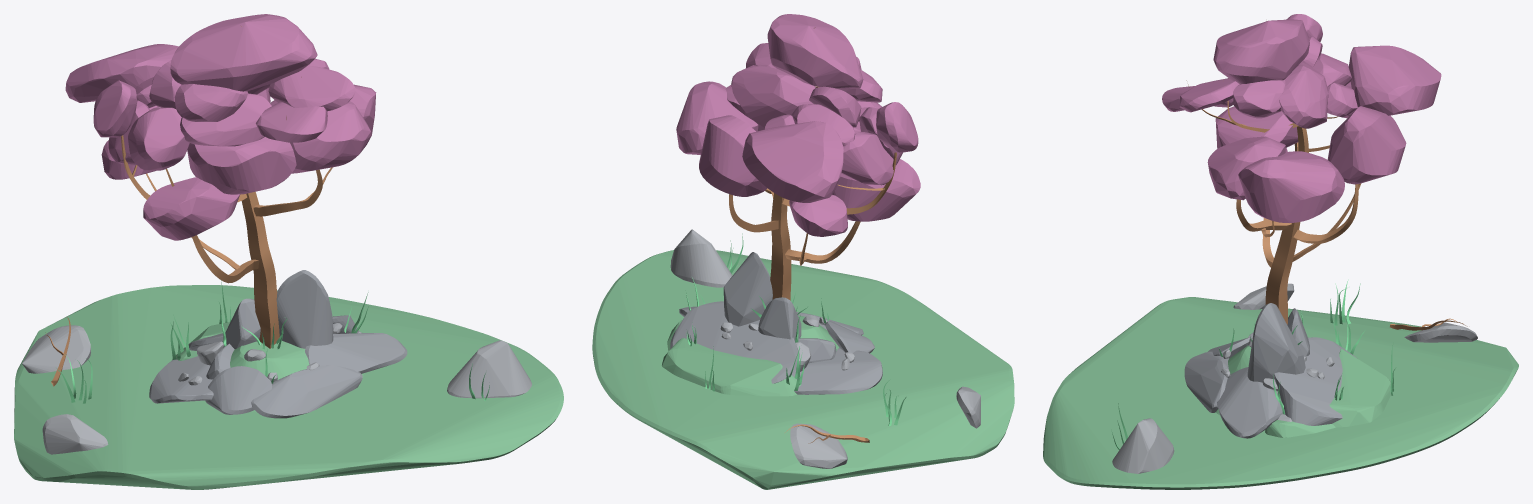
File: tilt_tree.glb
3 views of the same model, side by side, from view 1: azimuth 30°, elevation 25°; view 2: azimuth 150°, elevation 25°; view 3: azimuth 270°, elevation 25° (orthographic). The views are drawn at different scales.
Parts seen in each view (by area): view 1: brush_MatteHull_g0_b0_0, brush_MatteHull_g1_b0_6, brush_Spikes_g1_b0_5, brush_Spikes_g0_b0_3; view 2: brush_MatteHull_g0_b0_0, brush_MatteHull_g1_b0_6, brush_Spikes_g1_b0_5, brush_Spikes_g0_b0_3; view 3: brush_MatteHull_g0_b0_0, brush_MatteHull_g1_b0_6, brush_Spikes_g1_b0_5, brush_Spikes_g0_b0_3.
Boxes of the visible parts, x1=… form: brush_MatteHull_g0_b0_0: x1=14, y1=270, x2=563, y2=489; brush_MatteHull_g1_b0_6: x1=65, y1=14, x2=376, y2=240; brush_Spikes_g1_b0_5: x1=121, y1=26, x2=332, y2=348; brush_Spikes_g0_b0_3: x1=45, y1=280, x2=489, y2=403; brush_MatteHull_g0_b0_0: x1=592, y1=229, x2=1014, y2=489; brush_MatteHull_g1_b0_6: x1=676, y1=14, x2=920, y2=236; brush_Spikes_g1_b0_5: x1=729, y1=27, x2=896, y2=300; brush_Spikes_g0_b0_3: x1=686, y1=233, x2=906, y2=443; brush_MatteHull_g0_b0_0: x1=1043, y1=283, x2=1518, y2=489; brush_MatteHull_g1_b0_6: x1=1162, y1=14, x2=1441, y2=222; brush_Spikes_g1_b0_5: x1=1186, y1=80, x2=1361, y2=324; brush_Spikes_g0_b0_3: x1=1111, y1=279, x2=1467, y2=449.
Bounding box in the file's own units: 3.64 × 3.16 × 3.41.
